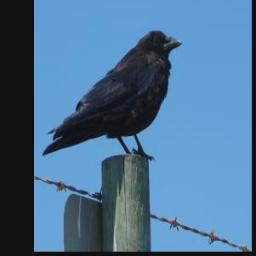Crow: (41, 28, 185, 162)
